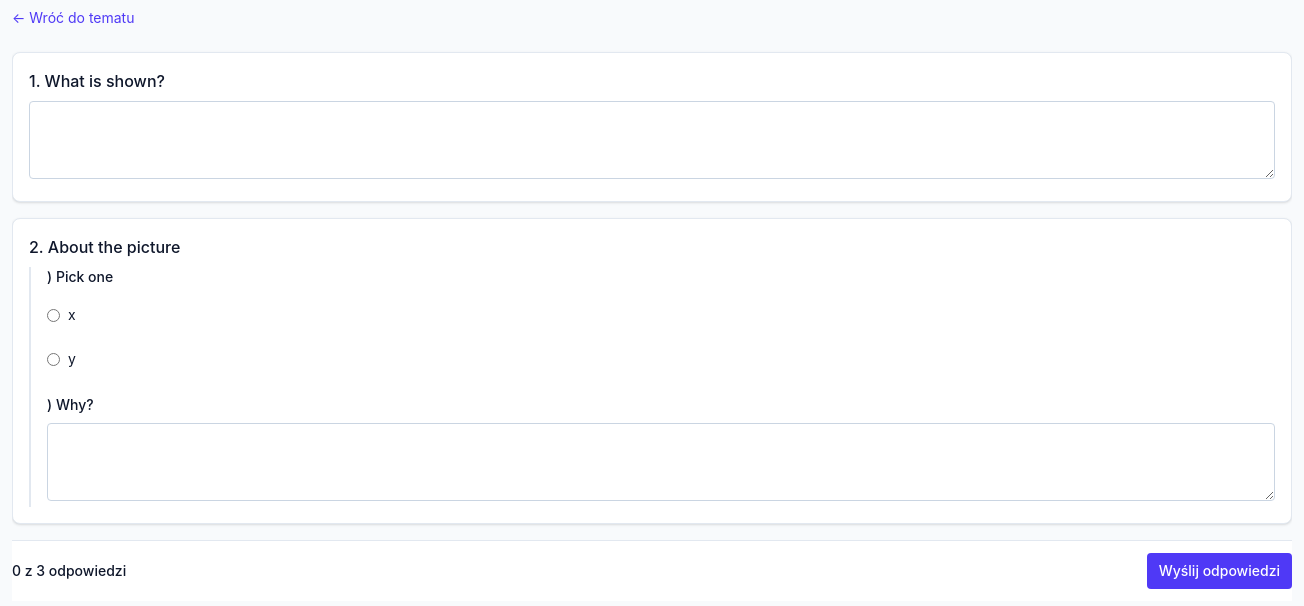
Scenario: counts answered questions and shows the draft indicator
This screenshot has width=1304, height=606.
Expected: the text "0 z 3 odpowiedzi" is shown, [12,561,126,581]
In the text box named "Odpowiedź 1": [652, 140] box [29,101,1275,179], type "a cat"
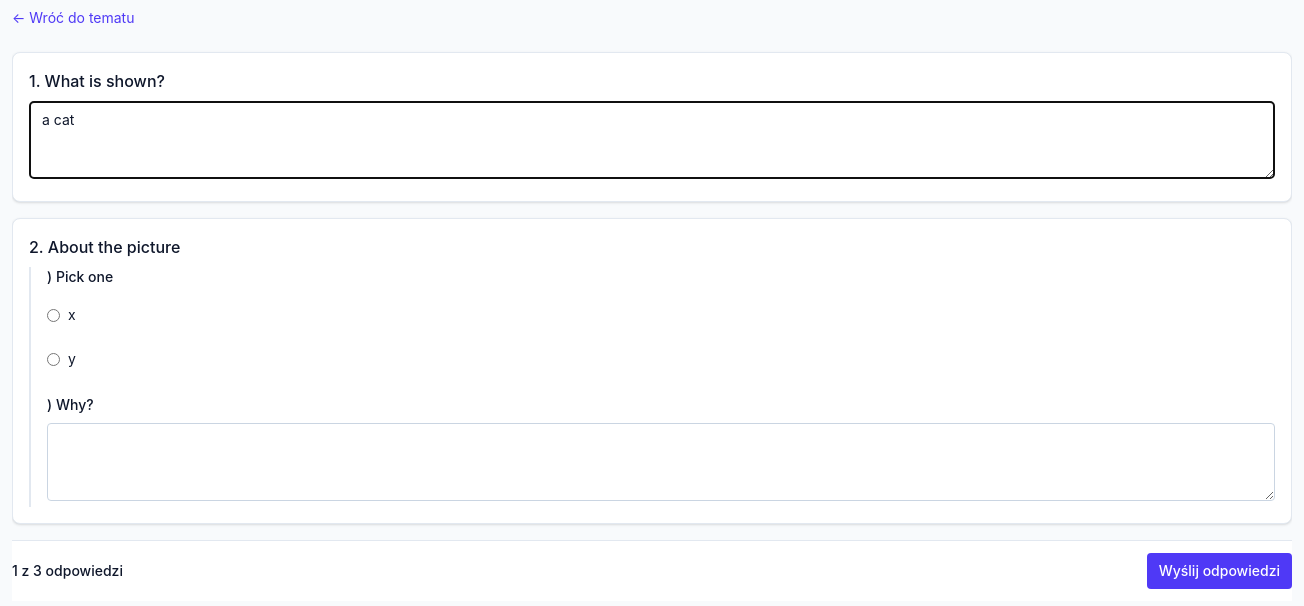
Expected: the text "Szkic zapisany" is not shown
Expected: the text "1 z 3 odpowiedzi" is shown, [12,561,123,581]
Click the radio button labelled "y": [54, 359] box [47,352,60,366]
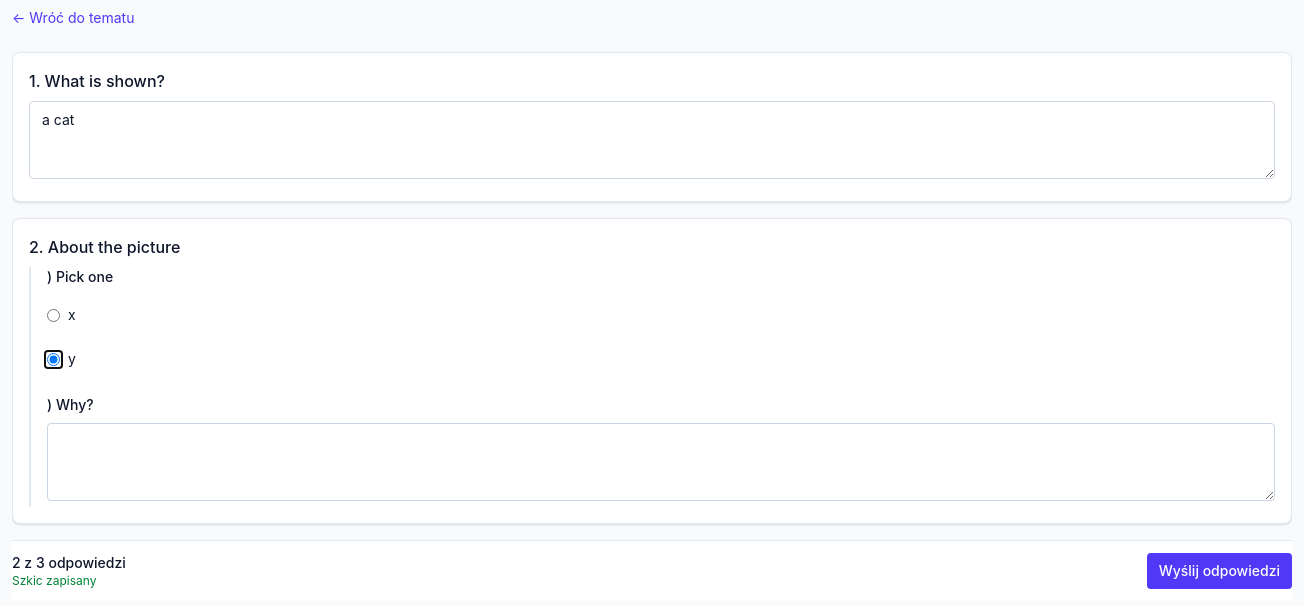
Expected: the text "Szkic zapisany" is shown, [12,573,96,588]
Expected: the text "2 z 3 odpowiedzi" is shown, [12,553,126,573]
